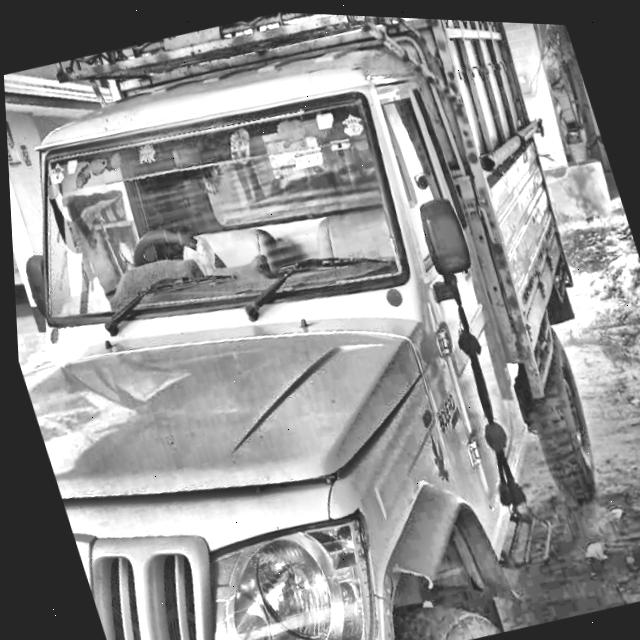light_vehicle: (1, 17, 640, 640)
